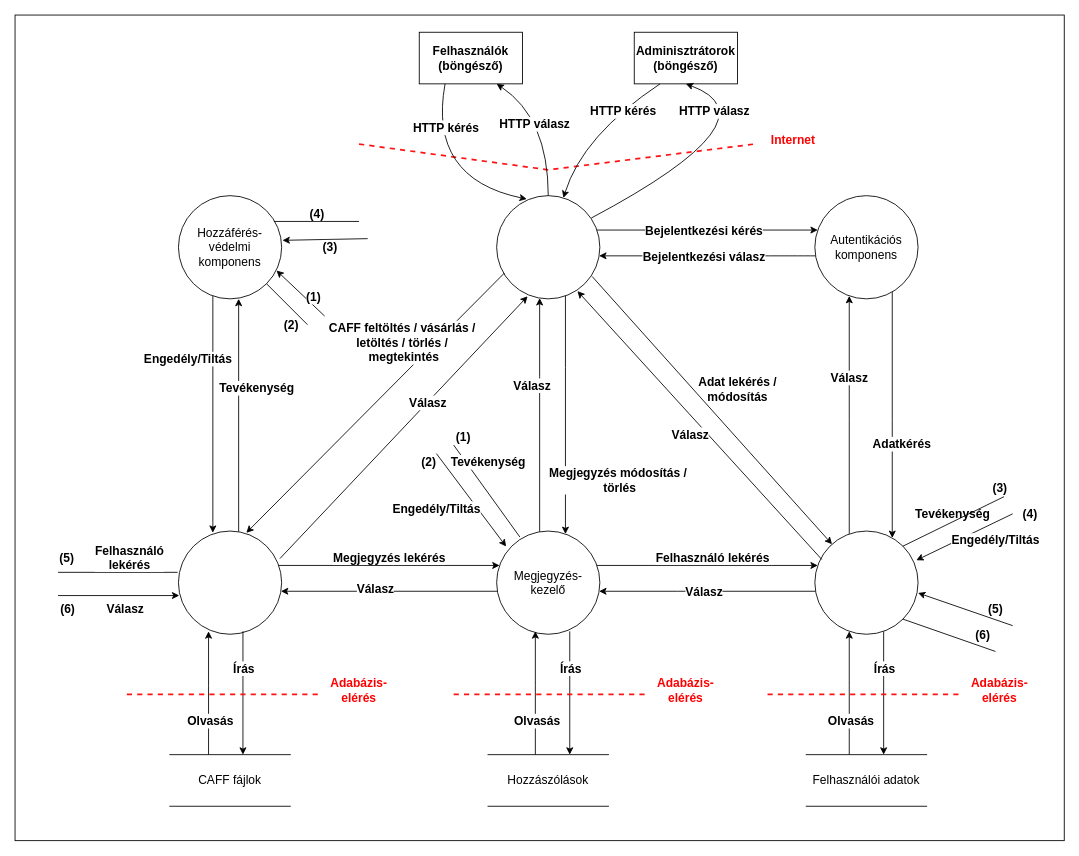
The diagram is 1079 pixels wide and 856 high, and some of its shapes have lost their labels. Here are the shapes that lost their labels. From the top down, the centre of each, then its label:
At point 548,247: "Webszerver".
At point 230,582: "CAFF-kezelő".
At point 866,582: "Felhasználói adatkezelő".
